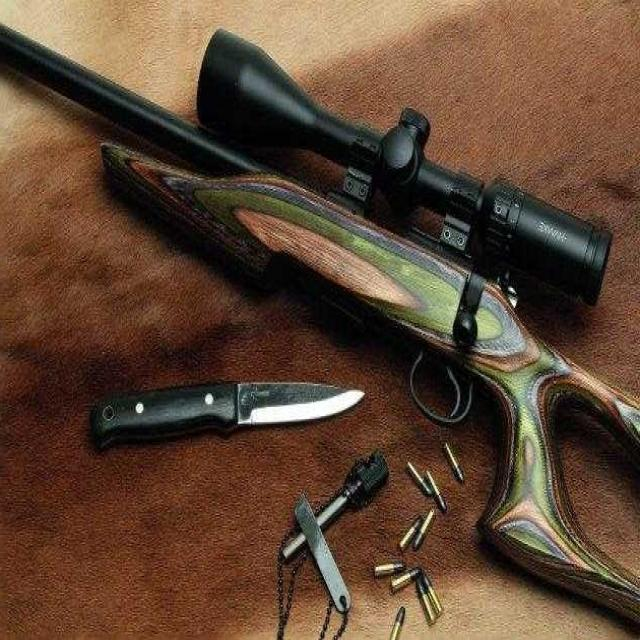heavyweapon: (91, 33, 640, 605)
